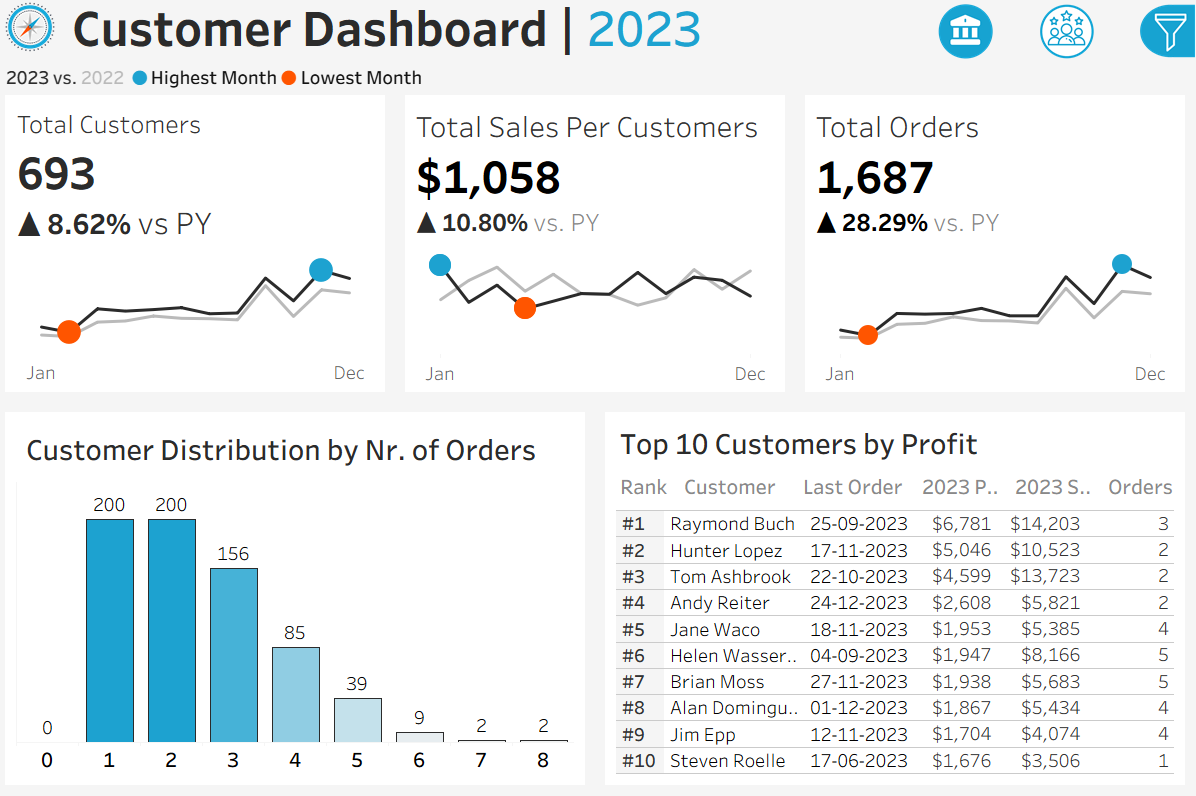

The dashboard page shown, as its layout file describes it:
{"tool":"tableau","page":{"name":"Customer Dashboard","canvas":[1200,800],"ordinal":0},"visuals":[{"type":"image","param":"Image/Icon - Logo.png","box":[0,0,69,64]},{"type":"text","box":[69,0,699,64]},{"type":"dashboard-object","box":[920,4,101,64]},{"type":"dashboard-object","box":[1021,4,100,64]},{"type":"blank","box":[950,10,239,88]},{"type":"worksheet","title":"Legend KPI","mark":"Automatic","box":[0,64,1200,36]},{"type":"text","box":[950,98,239,52]},{"type":"worksheet","title":"KPI Customers","mark":"Automatic","rows":["Calculation_423338373473910799"],"cols":["Order Date"],"box":[0,100,400,307]},{"type":"worksheet","title":"KPI Sales Per Customer","mark":"Automatic","rows":["Calculation_395190876235808771"],"cols":["Order Date"],"box":[400,100,400,307]},{"type":"worksheet","title":"KPI Orders","mark":"Automatic","rows":["Min / Max Sales (copy)_395190876244144138"],"cols":["Order Date"],"box":[800,100,400,307]},{"type":"parameter","param":"[Parameters].[Parameter 1]","box":[950,150,239,60]},{"type":"blank","box":[950,210,239,60]},{"type":"text","box":[950,270,239,39]},{"type":"filter","title":"KPI Customers","param":"[federated.0q5ydkq1mpu3g018v3r5l1sqj1np].[none:Category:nk]","box":[950,309,239,70]},{"type":"filter","title":"KPI Customers","param":"[federated.0q5ydkq1mpu3g018v3r5l1sqj1np].[none:Sub-Category:nk]","box":[950,379,239,70]},{"type":"text","box":[17,424,566,59]},{"type":"text","box":[617,424,566,47]},{"type":"blank","box":[950,449,239,52]},{"type":"text","box":[617,471,64,40]},{"type":"text","box":[681,471,119,40]},{"type":"text","box":[800,471,119,40]},{"type":"text","box":[919,471,93,40]},{"type":"text","box":[1012,471,93,40]},{"type":"text","box":[1105,471,78,40]},{"type":"worksheet","title":"Customer Distribution","mark":"Automatic","rows":["Calculation_423338373468270601"],"cols":["Calculation_395190876251136013"],"box":[17,483,566,300]},{"type":"text","box":[950,501,239,43]},{"type":"worksheet","title":"Top Customers","mark":"Automatic","rows":["Calculation_395190876260286480","Customer Name","Order Date"],"box":[617,511,566,272]},{"type":"filter","title":"KPI Customers","param":"[federated.0q5ydkq1mpu3g018v3r5l1sqj1np].[none:Region:nk]","box":[950,544,239,70]},{"type":"filter","title":"KPI Customers","param":"[federated.0q5ydkq1mpu3g018v3r5l1sqj1np].[none:State:nk]","box":[950,614,239,70]},{"type":"filter","title":"KPI Customers","param":"[federated.0q5ydkq1mpu3g018v3r5l1sqj1np].[none:City:nk]","box":[950,684,239,70]}]}

Visuals, with their boxes in screenshot pixels (x1, y1, x2, y2), scaled from the page's 1200x800 canvas onto the 1196x796 screenshot:
image: [0,0,69,64]
text: [69,0,765,64]
dashboard-object: [917,4,1018,68]
dashboard-object: [1018,4,1117,68]
blank: [947,10,1185,98]
"Legend KPI" worksheet: [0,64,1195,100]
text: [947,98,1185,149]
"KPI Customers" worksheet: [0,100,399,405]
"KPI Sales Per Customer" worksheet: [399,100,797,405]
"KPI Orders" worksheet: [797,100,1195,405]
parameter: [947,149,1185,209]
blank: [947,209,1185,269]
text: [947,269,1185,307]
"KPI Customers" filter: [947,307,1185,377]
"KPI Customers" filter: [947,377,1185,447]
text: [17,422,581,481]
text: [615,422,1179,469]
blank: [947,447,1185,498]
text: [615,469,679,508]
text: [679,469,797,508]
text: [797,469,916,508]
text: [916,469,1009,508]
text: [1009,469,1101,508]
text: [1101,469,1179,508]
"Customer Distribution" worksheet: [17,481,581,779]
text: [947,498,1185,541]
"Top Customers" worksheet: [615,508,1179,779]
"KPI Customers" filter: [947,541,1185,611]
"KPI Customers" filter: [947,611,1185,681]
"KPI Customers" filter: [947,681,1185,750]
